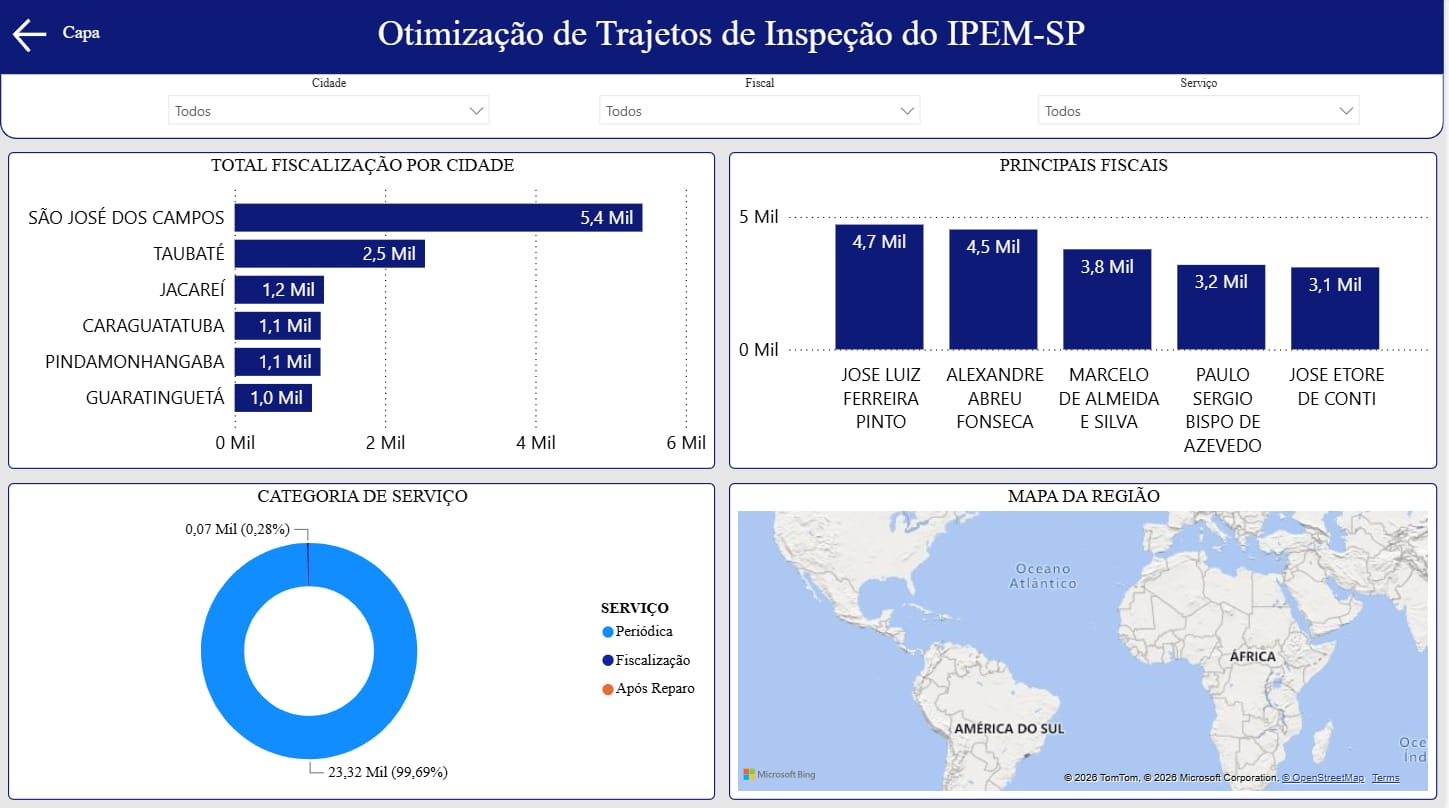

The page's visual inventory and layout, read from the dashboard file:
{"tool":"powerbi","page":{"name":"Página 5","canvas":[1280,720],"ordinal":2},"visuals":[{"type":"shape","box":[0,66.5,1280.4,58.5],"z":0},{"type":"barChart","title":"TOTAL FISCALIZAÇÃO POR CIDADE","fields":{"Category":["data_v1_tratado.CIDADE"],"Y":["Count(data_v1_tratado.NR_INMETRO)"]},"box":[7.1,136.6,627,281],"z":1000},{"type":"columnChart","title":"PRINCIPAIS FISCAIS","fields":{"Category":["data_v1_tratado.NOME DO FISCAL"],"Y":["CountNonNull(data_v1_tratado.NR_INMETRO)"]},"box":[646.4,136.6,627.8,281.1],"z":2000},{"type":"donutChart","title":"CATEGORIA DE SERVIÇO","fields":{"Category":["data_v1_tratado.SERVICO"],"Y":["CountNonNull(data_v1_tratado.CIDADE)"]},"box":[7.1,430,626.9,281.1],"z":3000},{"type":"filledMap","title":"MAPA DA REGIÃO","fields":{"Category":["data_v1_tratado.CIDADE"]},"box":[646.4,430,627.8,281.1],"z":4000},{"type":"shape","box":[0,0,1280.4,66.5],"z":5000},{"type":"textbox","box":[329.9,8,654.4,51.4],"z":5001},{"type":"actionButton","box":[7.1,13.3,55.9,39.9],"z":5003},{"type":"textbox","box":[50.5,16.8,63.8,36.4],"z":5004},{"type":"slicer","title":"Cidade","fields":{"Values":["data_v1_tratado.CIDADE"]},"box":[139.2,70,305,51.4],"z":5005},{"type":"slicer","title":"Fiscal","fields":{"Values":["data_v1_tratado.NOME DO FISCAL"]},"box":[521.4,70,305,51.4],"z":5006},{"type":"slicer","title":"Serviço","fields":{"Values":["data_v1_tratado.SERVICO"]},"box":[910.6,70,305,51.4],"z":5007}]}

Visuals, with their boxes in screenshot pixels (x1, y1, x2, y2), scaled from the page's 1280x720 canvas onto the 1449x808 screenshot:
shape: left=0, top=75, right=1448, bottom=140
"TOTAL FISCALIZAÇÃO POR CIDADE" barChart: left=8, top=153, right=718, bottom=469
"PRINCIPAIS FISCAIS" columnChart: left=732, top=153, right=1442, bottom=469
"CATEGORIA DE SERVIÇO" donutChart: left=8, top=483, right=718, bottom=798
"MAPA DA REGIÃO" filledMap: left=732, top=483, right=1442, bottom=798
shape: left=0, top=0, right=1448, bottom=75
textbox: left=373, top=9, right=1114, bottom=67
actionButton: left=8, top=15, right=71, bottom=60
textbox: left=57, top=19, right=129, bottom=60
"Cidade" slicer: left=158, top=79, right=503, bottom=136
"Fiscal" slicer: left=590, top=79, right=936, bottom=136
"Serviço" slicer: left=1031, top=79, right=1376, bottom=136
